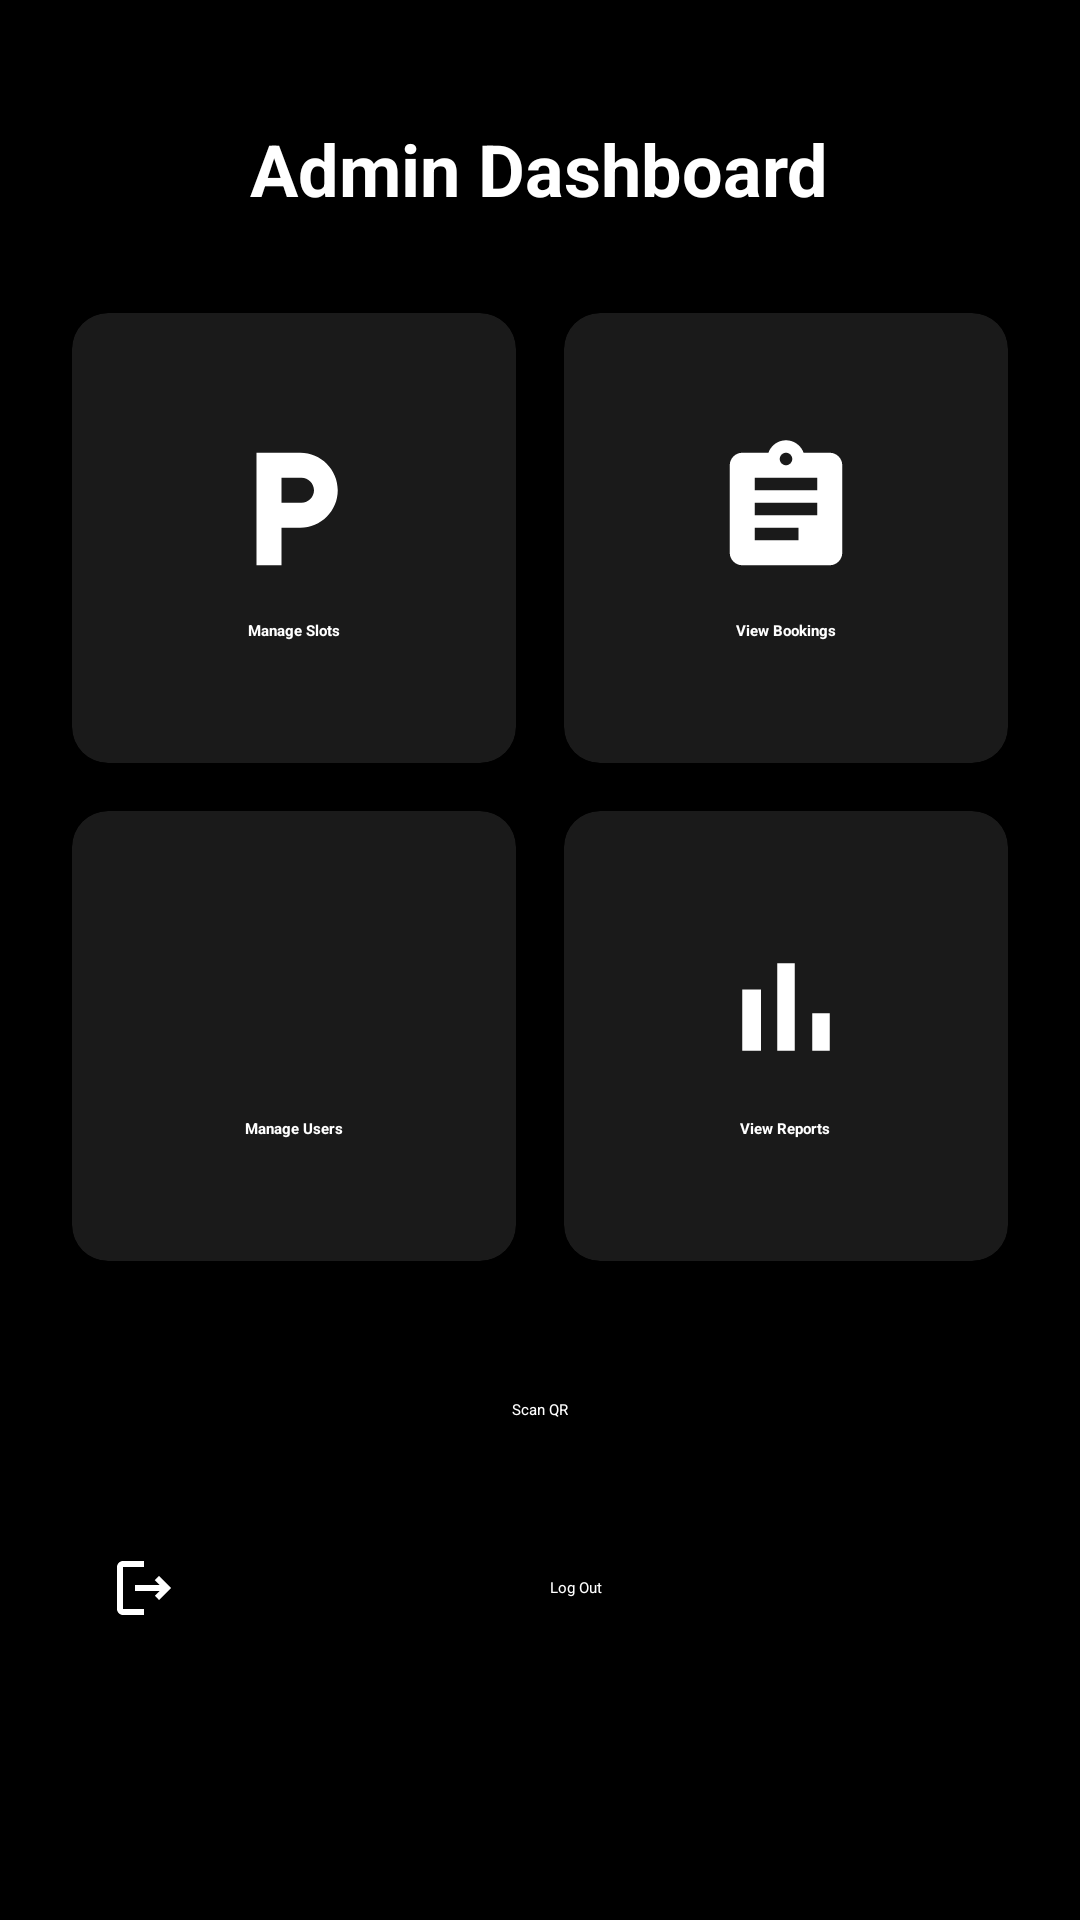

Where to tap for icons on this 1080×1920 app screen, as [x,y]:
parking: [297,509]
